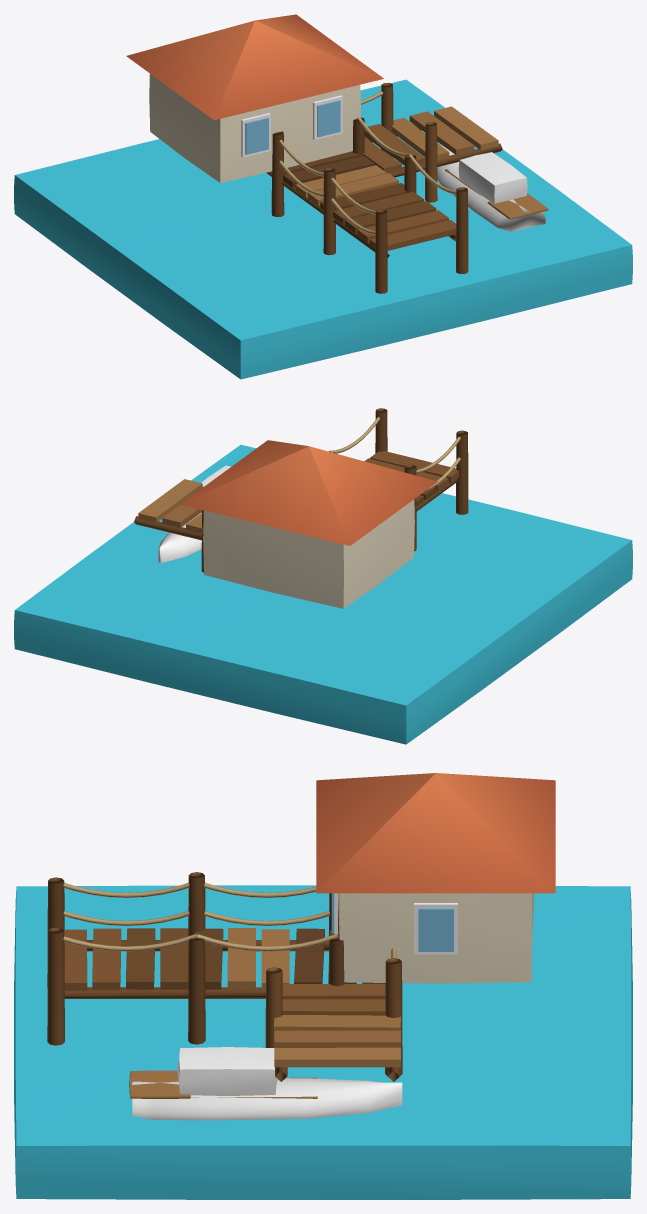
The model's file is Pier_L2.obj.
The picture shows the model from 3 angles, top to bottom: view 1: azimuth 30°, elevation 25°; view 2: azimuth 150°, elevation 25°; view 3: azimuth 270°, elevation 25°; orthographic projection. The views are drawn at different scales.
Parts seen in each view (by area): view 1: Pier_L2; view 2: Pier_L2; view 3: Pier_L2.
Part boxes in pixels (box(x1,y1,x2,y2)): Pier_L2: box(14, 14, 632, 379); Pier_L2: box(14, 408, 632, 744); Pier_L2: box(14, 773, 632, 1199).
Size of the model in its own units: 4.4 by 2.3 by 4.4.
1 material, 1 textured.
